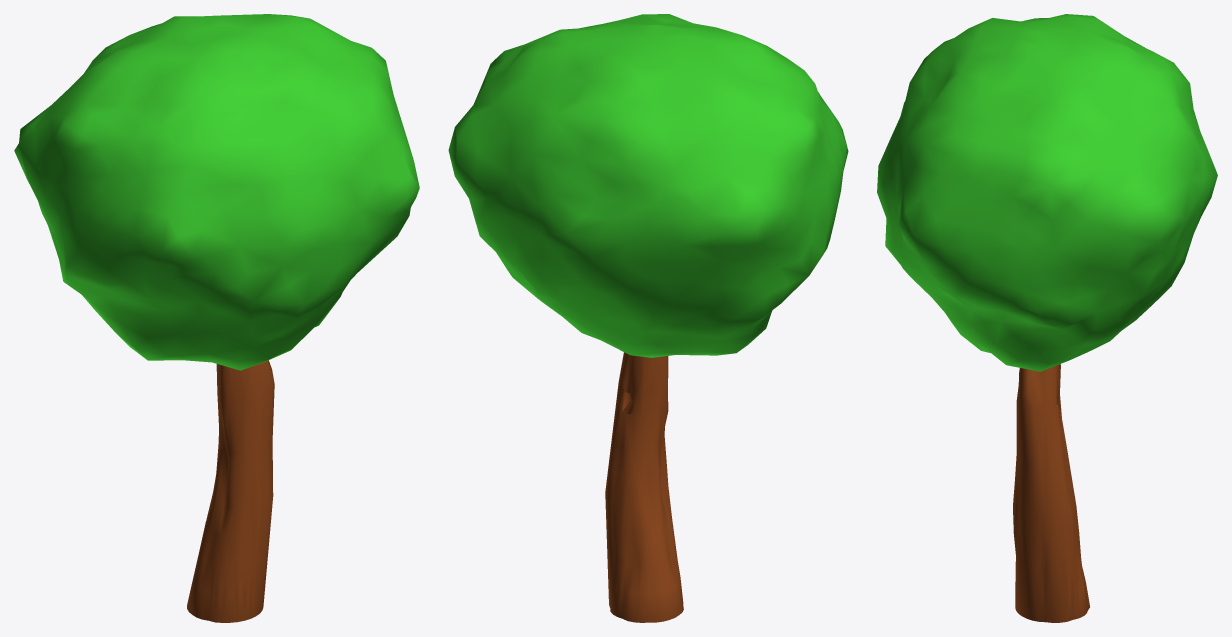
Rendered from Arbre.fbx.
3 renders of one model, left to right at view 1: azimuth 30°, elevation 25°; view 2: azimuth 150°, elevation 25°; view 3: azimuth 270°, elevation 25°, orthographic. The views are drawn at different scales.
Parts seen in each view (by area): view 1: Icosphere, Cylinder; view 2: Icosphere, Cylinder; view 3: Icosphere, Cylinder.
Boxes of the visible parts, x1=… form: Icosphere: x1=14, y1=14, x2=419, y2=370; Cylinder: x1=187, y1=360, x2=274, y2=622; Icosphere: x1=448, y1=14, x2=848, y2=357; Cylinder: x1=605, y1=352, x2=683, y2=622; Icosphere: x1=877, y1=14, x2=1217, y2=371; Cylinder: x1=1013, y1=364, x2=1089, y2=622.
Size of the model in its own units: 421 by 708 by 387.
